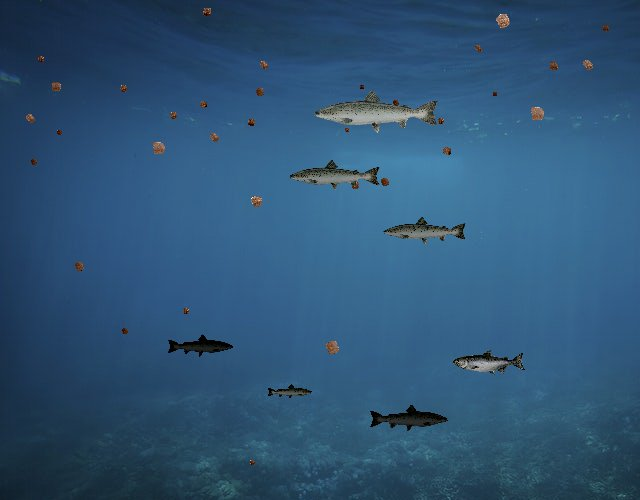Fish: (312, 88, 441, 134), (288, 159, 382, 193), (382, 215, 468, 246), (369, 404, 450, 433), (454, 349, 527, 376), (166, 333, 234, 358), (266, 383, 313, 400)
Pellet: (244, 189, 269, 214), (178, 304, 193, 319), (118, 324, 132, 338), (34, 52, 48, 66), (246, 457, 258, 469)
